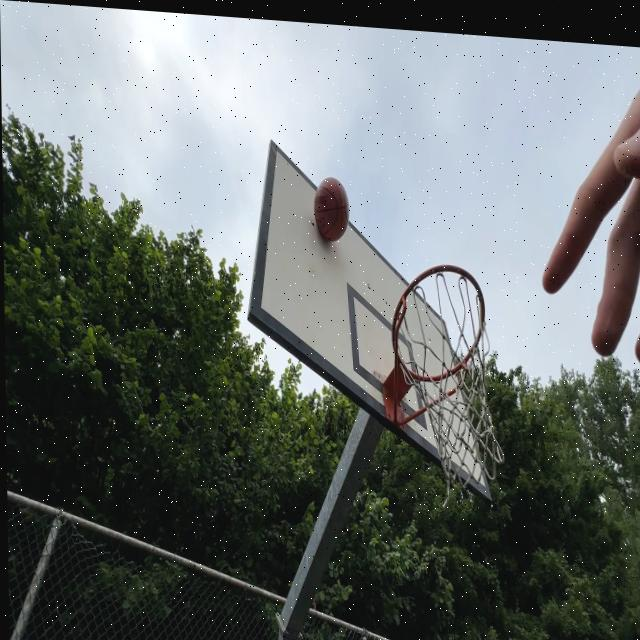rebound_hit: (314, 177, 350, 248)
